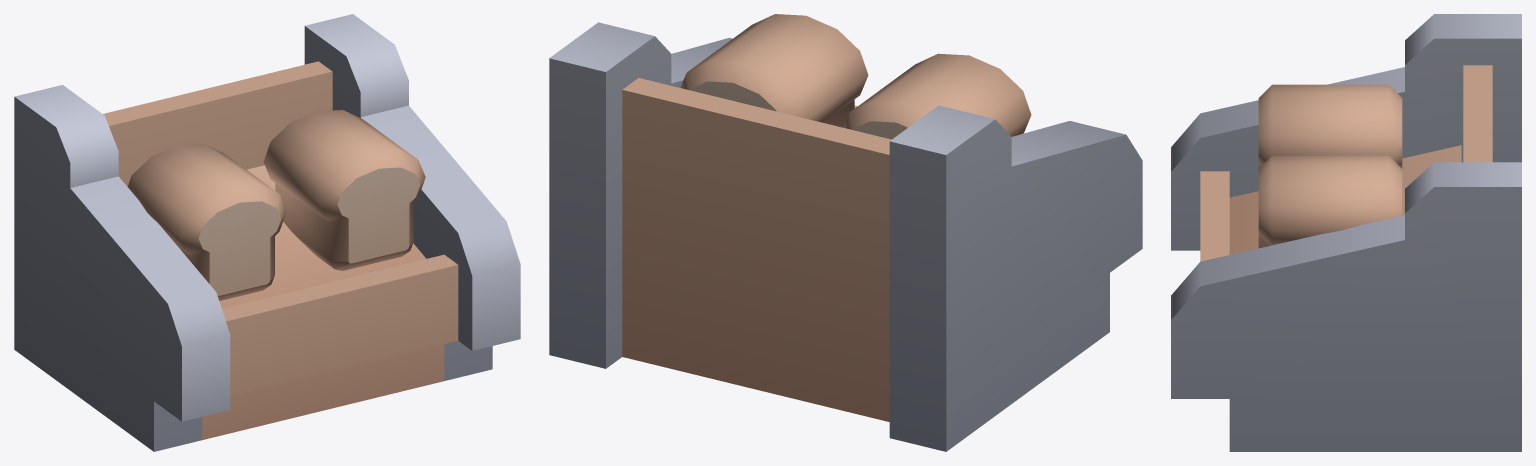
File: kn_produce_bread.glb
The picture shows the model from 3 angles, left to right: view 1: azimuth 30°, elevation 25°; view 2: azimuth 150°, elevation 25°; view 3: azimuth 270°, elevation 25°; orthographic projection. The views are drawn at different scales.
Parts seen in each view (by area): view 1: display-bread; view 2: display-bread; view 3: display-bread.
Boxes of the visible parts, box(x1,y1,x2,y2) form: display-bread: box(14, 14, 520, 451); display-bread: box(549, 14, 1142, 451); display-bread: box(1171, 14, 1521, 451).
Bounding box in the file's own units: 1.68 × 1.2 × 1.44.
